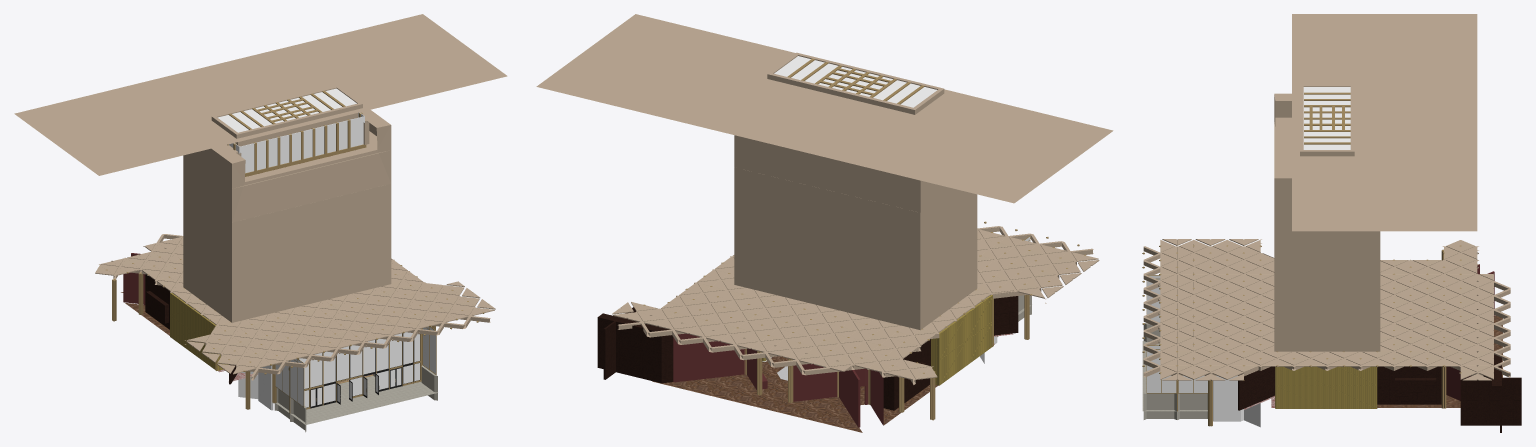
File: Chancery Rosewood_LOBBY_BAKE_V4.glb
3 views of the same model, side by side, from view 1: azimuth 30°, elevation 25°; view 2: azimuth 150°, elevation 25°; view 3: azimuth 270°, elevation 25° (orthographic). The views are drawn at different scales.
Parts seen in each view (by area): view 1: ATRIUM, LOBBY, ENTRANCE; view 2: ATRIUM, LOBBY, ENTRANCE; view 3: ATRIUM, LOBBY, ENTRANCE.
Boxes of the visible parts, x1,y1,x2,y2 form: ATRIUM: (14, 14, 507, 322); LOBBY: (95, 234, 495, 384); ENTRANCE: (228, 326, 437, 432); ATRIUM: (536, 14, 1113, 330); LOBBY: (597, 221, 1099, 432); ENTRANCE: (980, 236, 1031, 363); ATRIUM: (1274, 14, 1477, 351); LOBBY: (1142, 239, 1521, 432); ENTRANCE: (1142, 275, 1271, 427).
Size of the model in its own units: 52.4 by 30.4 by 38.64.
27 materials, 11 textured.
